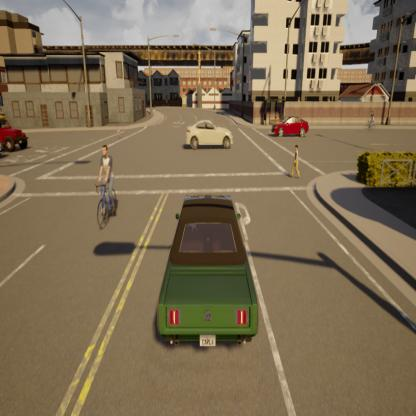Cars: (153, 178, 270, 366), (180, 108, 239, 169), (0, 90, 32, 172), (95, 141, 118, 228), (266, 106, 312, 147)
Pedestrian: (286, 137, 304, 186)
